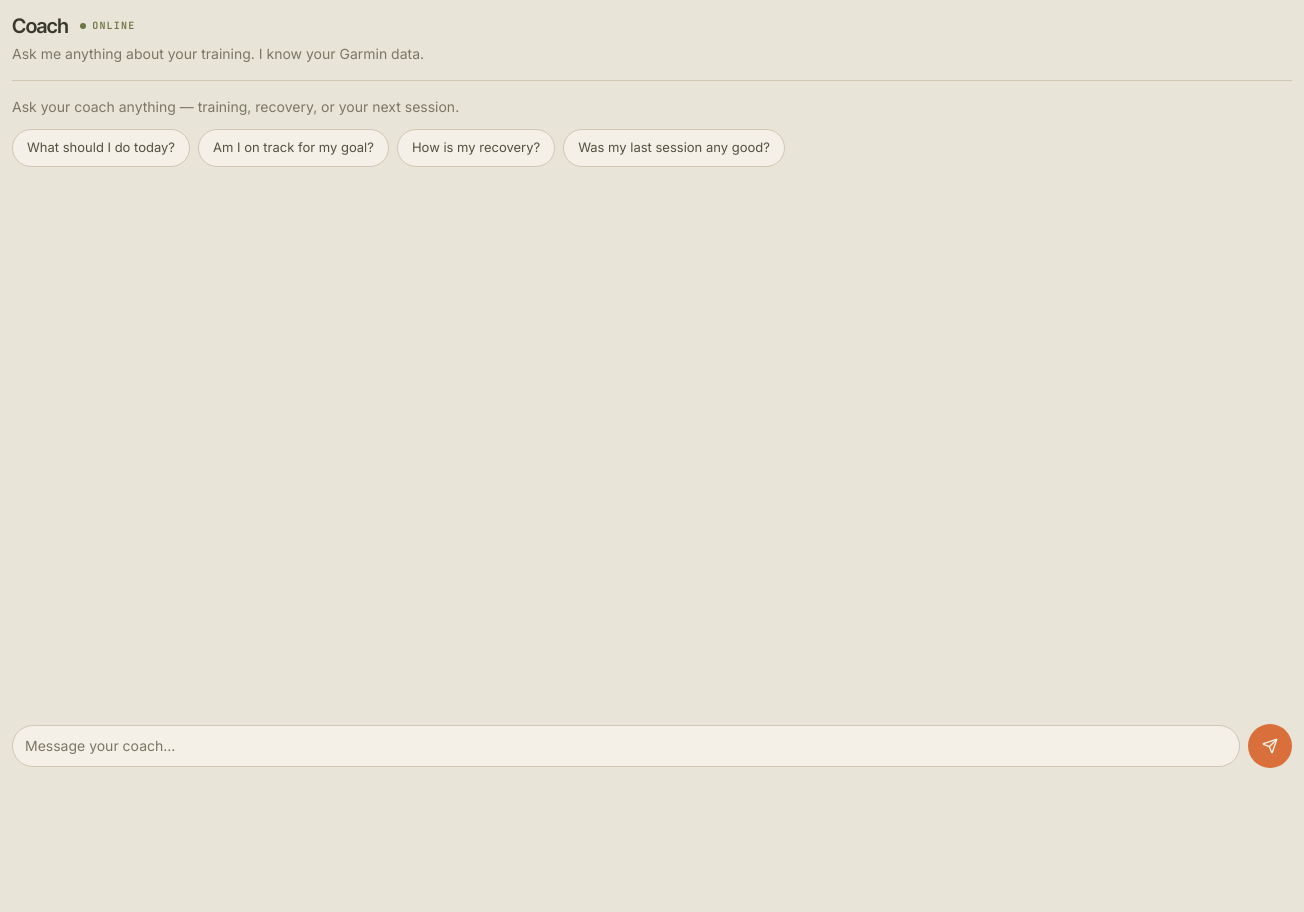
Scenario: ChatView (US4) › loads history and sends a message, showing the reply
Type "How do I feel?" into the field labelled "Message your coach…" at (626, 746), box [12, 725, 1240, 767]
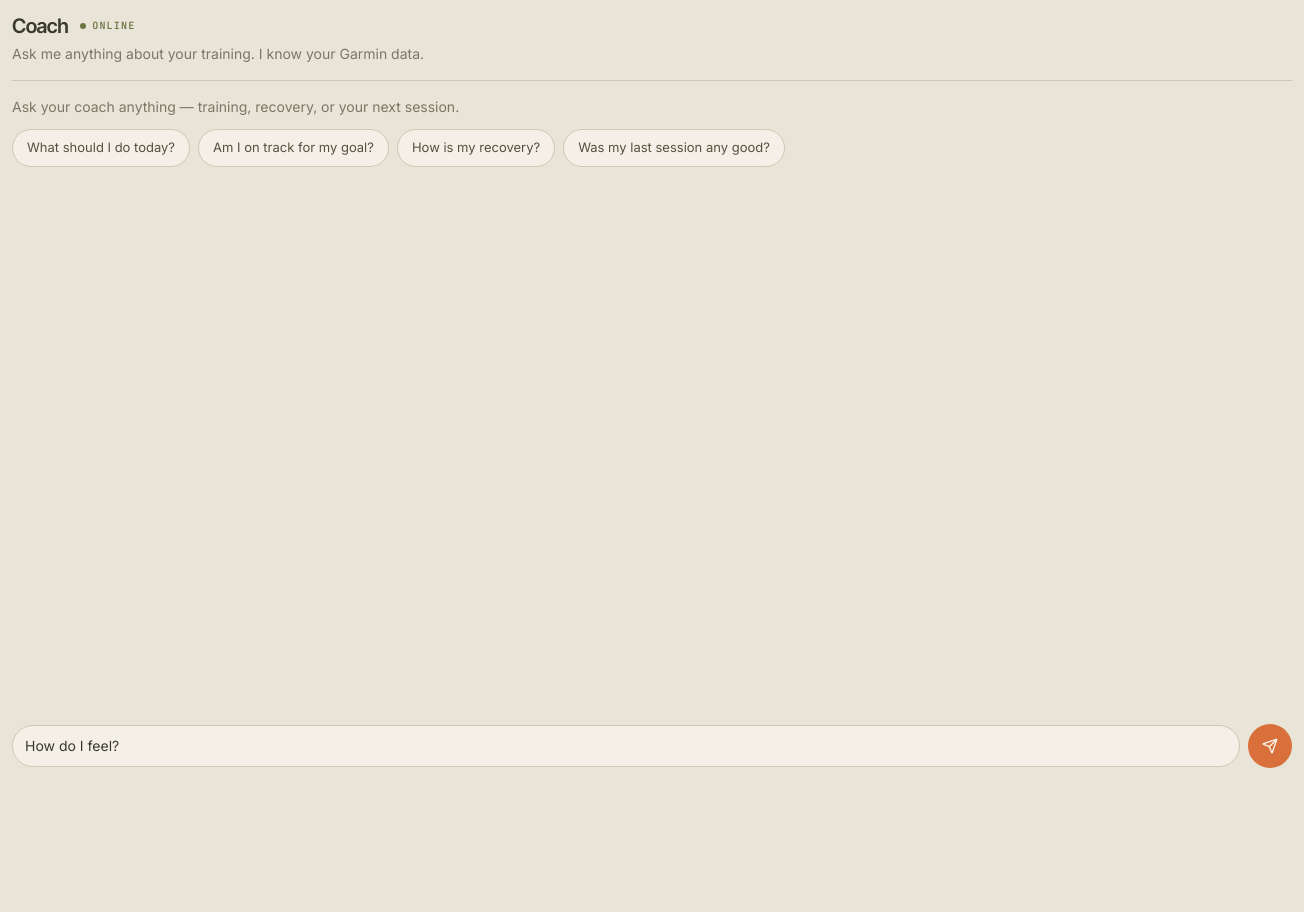
Click the button named "send" at (1270, 746), box [1248, 724, 1292, 768]
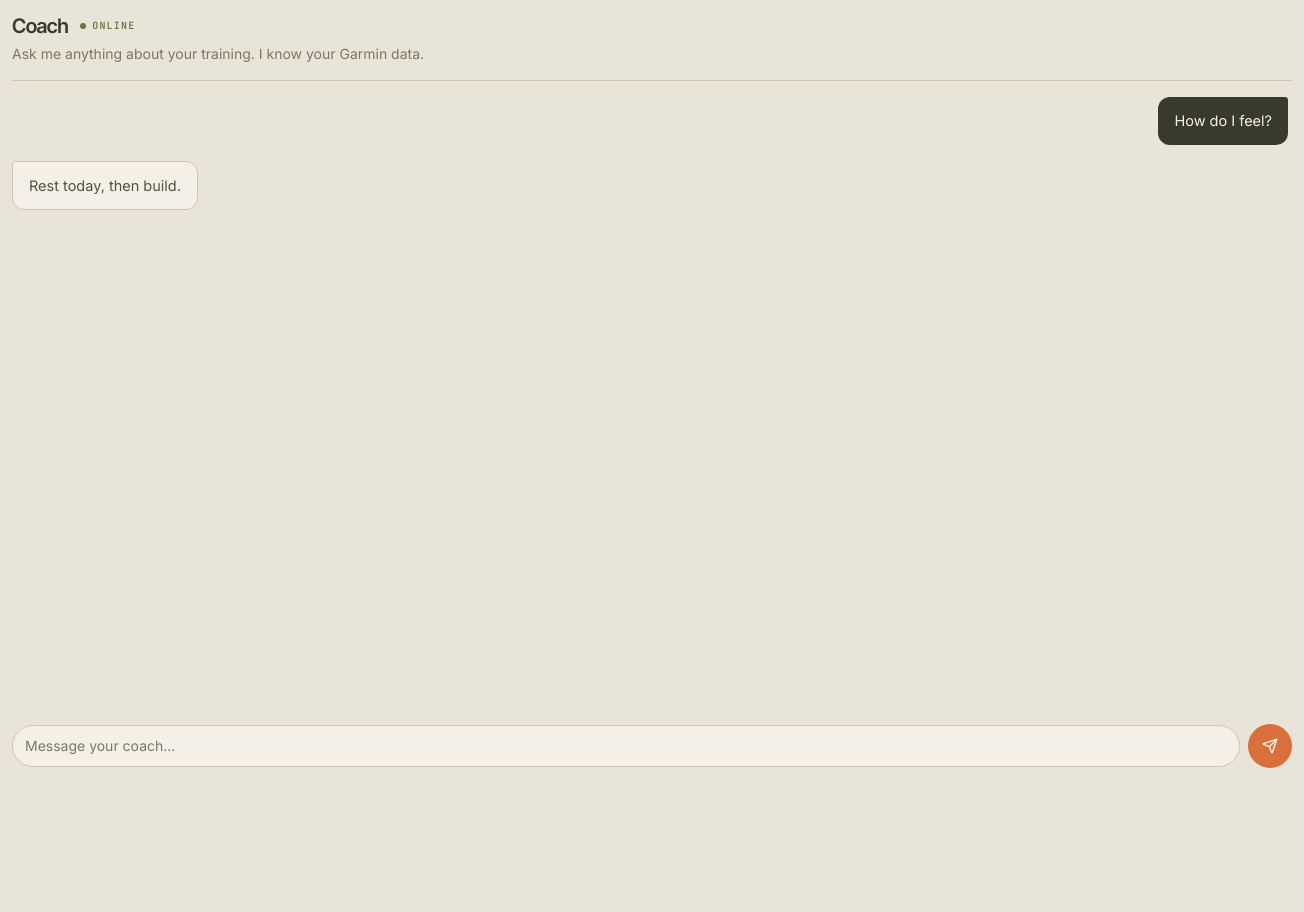
Check: the text "How do I feel?" is shown, box [1158, 97, 1288, 145]
Check: the text "Rest today, then build." is shown, box [12, 161, 198, 210]
